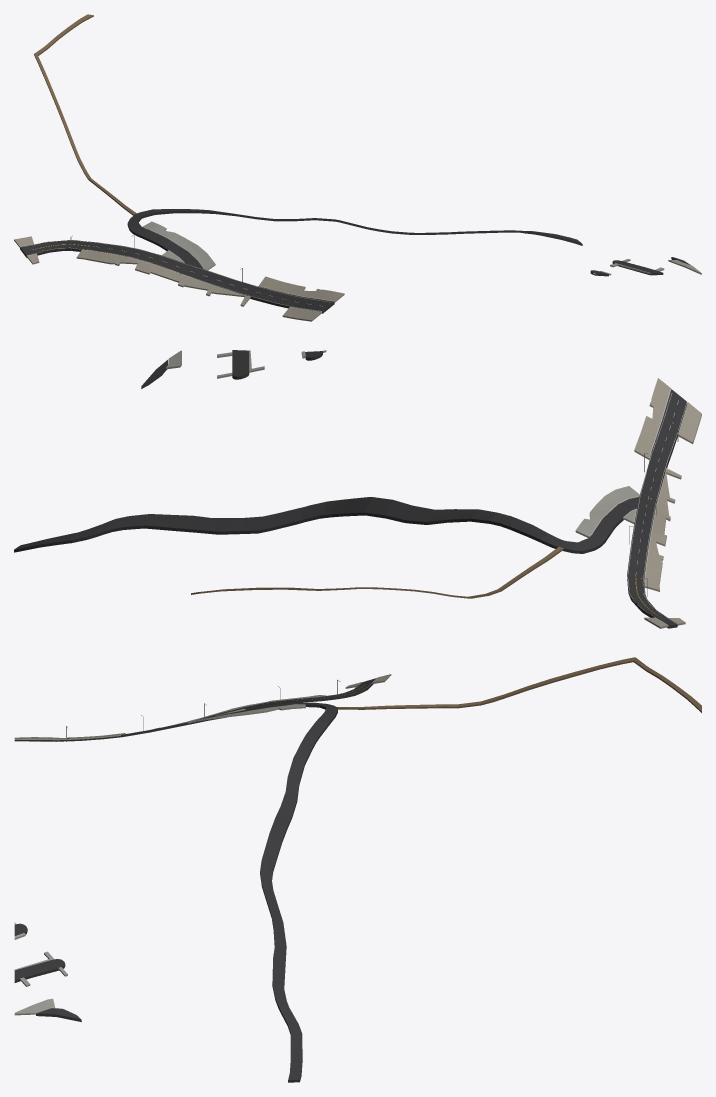
3 renders of one model, top to bottom at view 1: azimuth 30°, elevation 25°; view 2: azimuth 150°, elevation 25°; view 3: azimuth 270°, elevation 25°, orthographic. The views are drawn at different scales.
Size of the model in its own units: 293 by 95.6 by 292.
